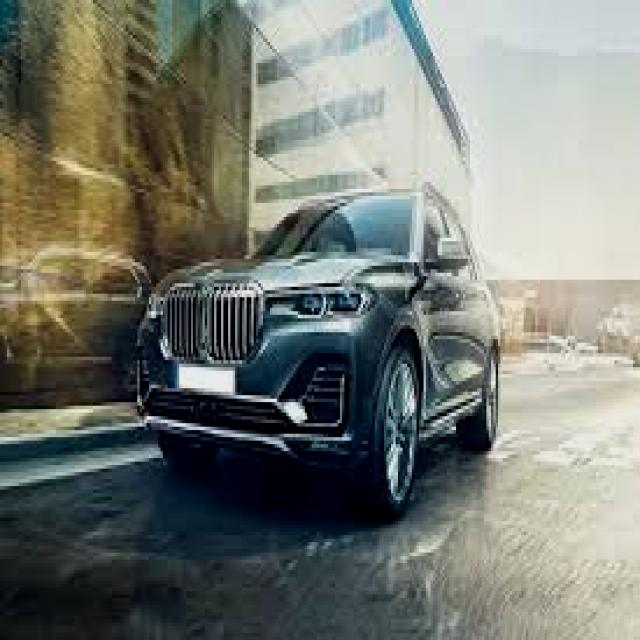SUV: (140, 184, 507, 525)
